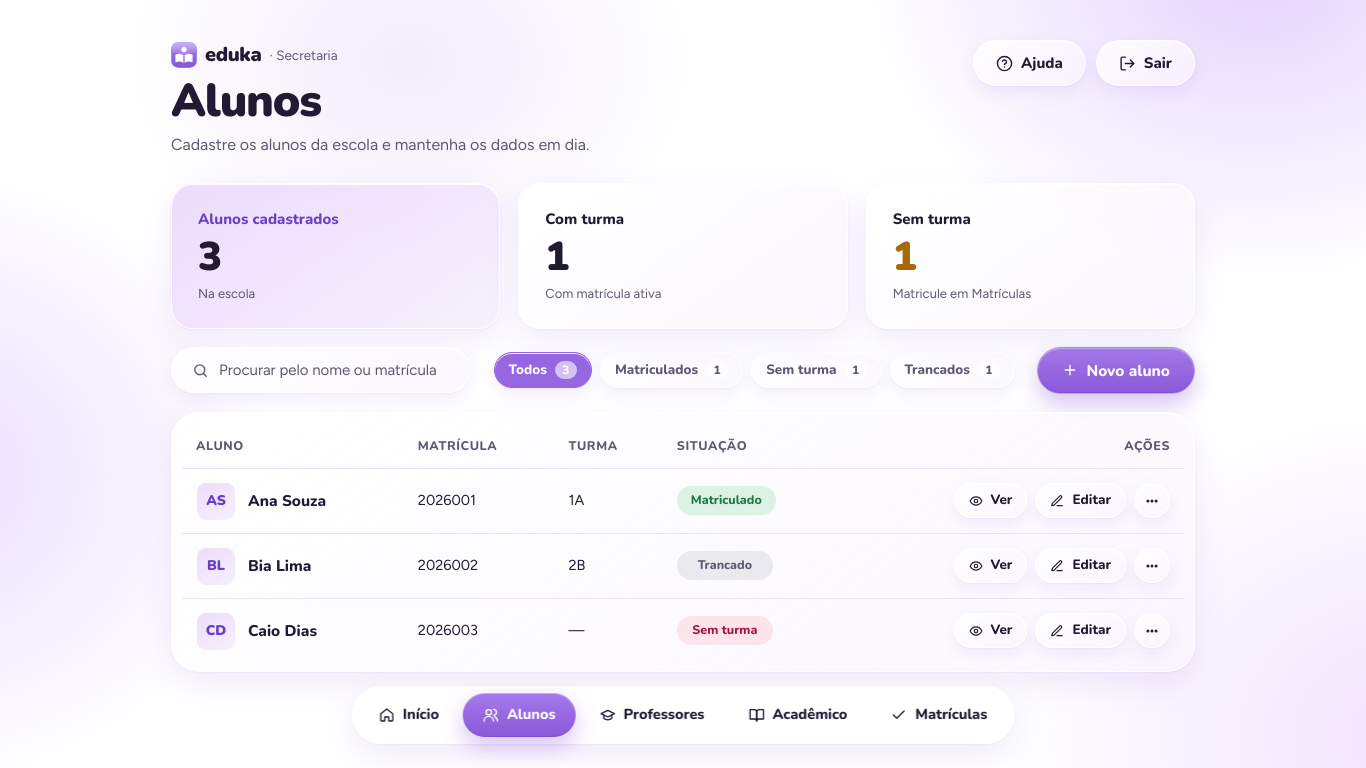
Test case: Alunos › reenvia o acesso pelo menu da linha
This screenshot has width=1366, height=768.
Click the button named "Mais ações para Ana Souza". click: (1152, 501)
box: left=1134, top=484, right=1170, bottom=518
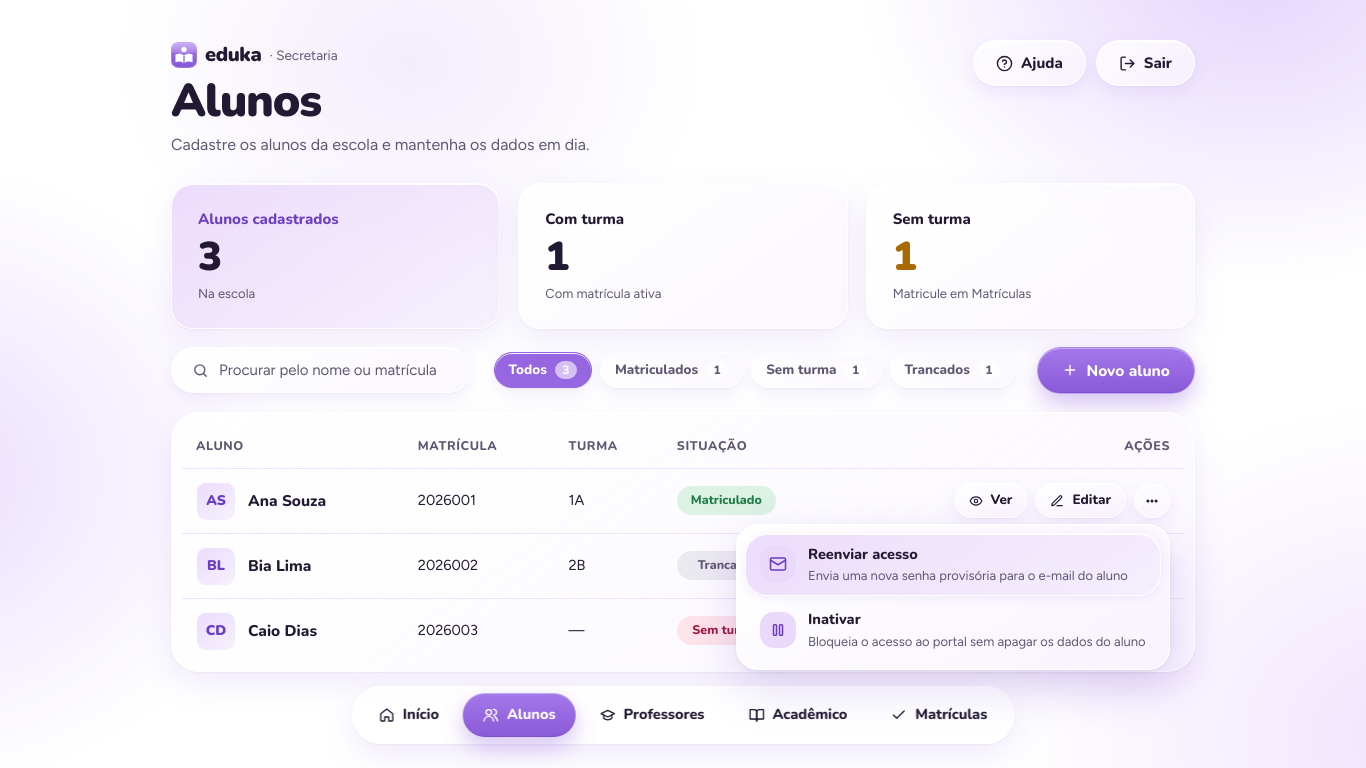
Click the menu item "Reenviar acesso". click: (778, 564)
box: left=745, top=533, right=1161, bottom=596
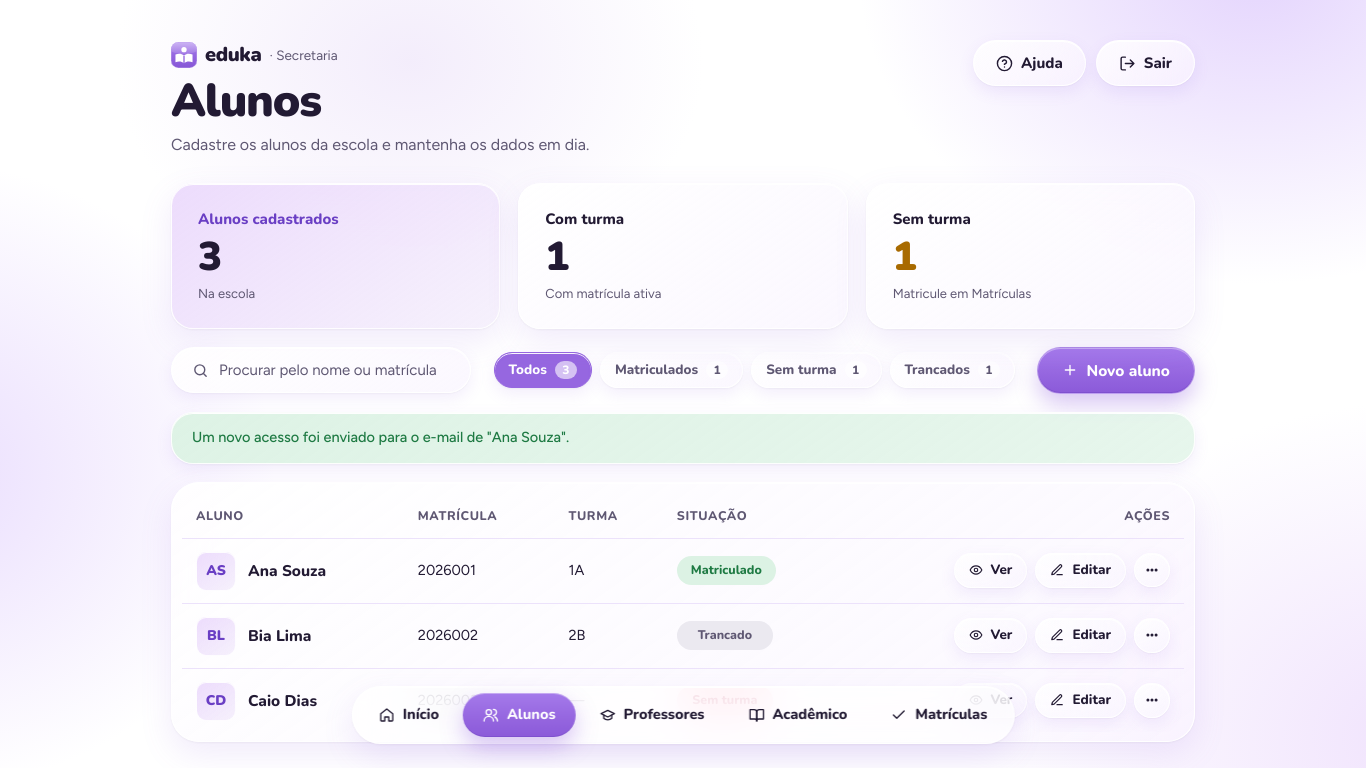
Expected: the message reads "Um novo acesso foi enviado para o e-mail de \"Ana Souza\".", left=192, top=428, right=569, bottom=446
